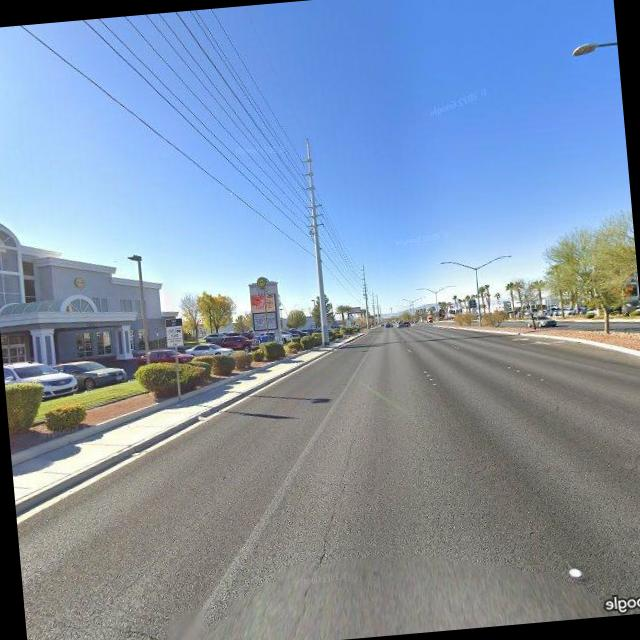pothole: (306, 432, 371, 562)
